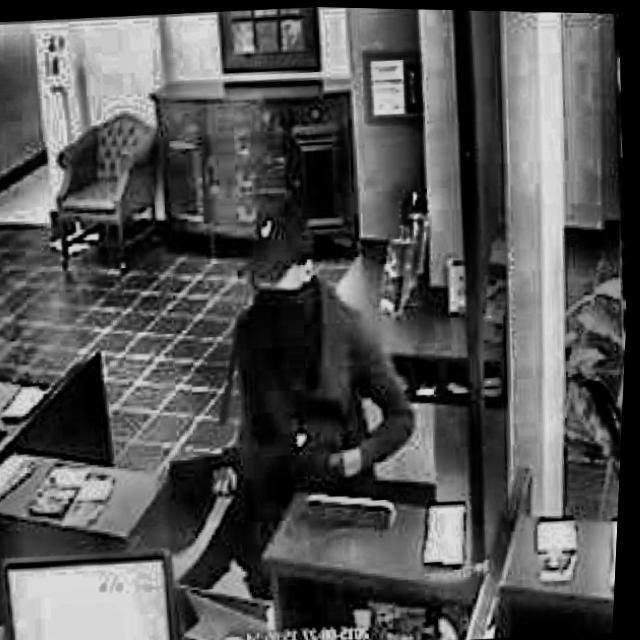robbery: (161, 191, 442, 592)
